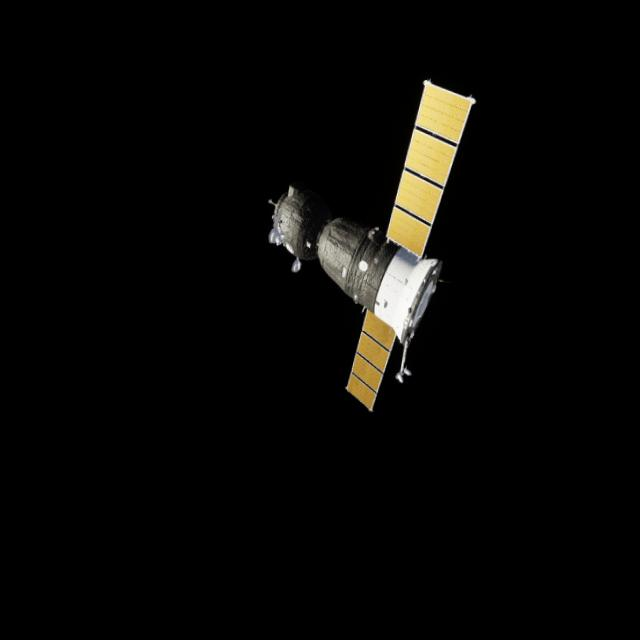Satellites revolving around earth: (259, 69, 478, 417)
